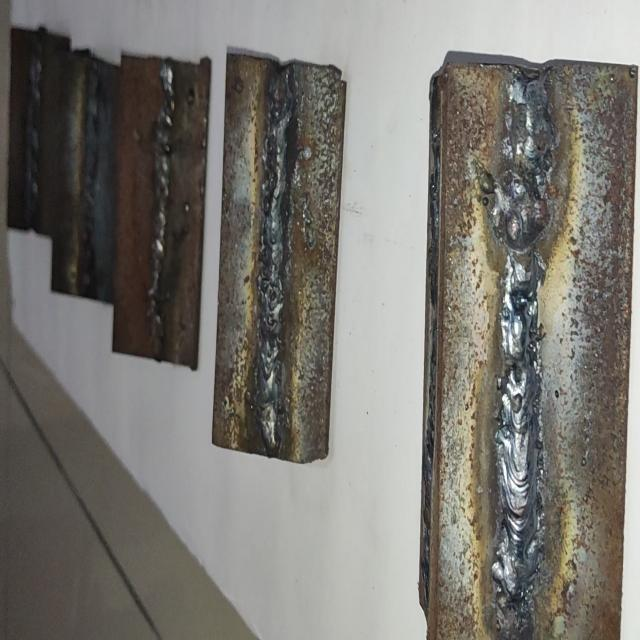Bad Weld: (499, 73, 546, 630)
Defect: (497, 219, 547, 392), (490, 561, 542, 640)
Good Weld: (258, 64, 292, 454), (150, 64, 172, 357)
